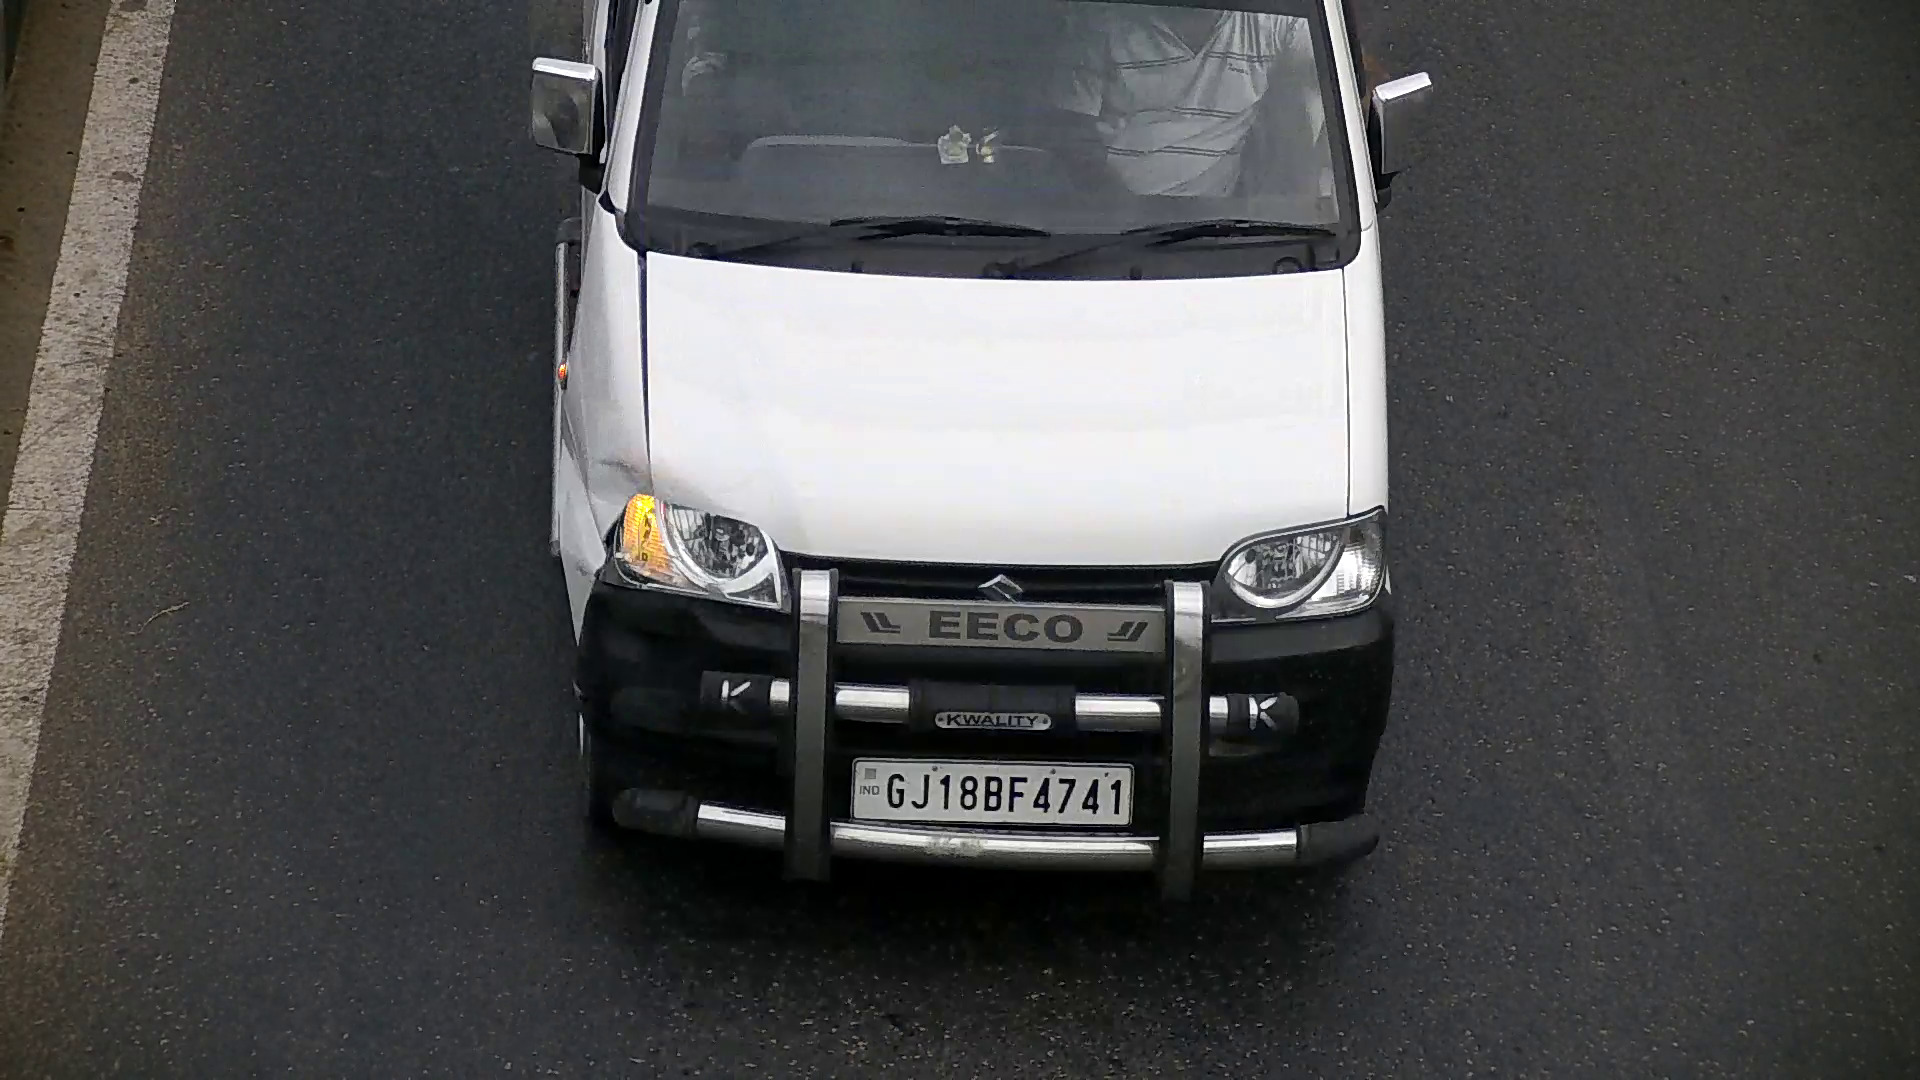numberplate: (846, 750, 1138, 829)
